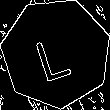L_N: (34, 25, 79, 82)
